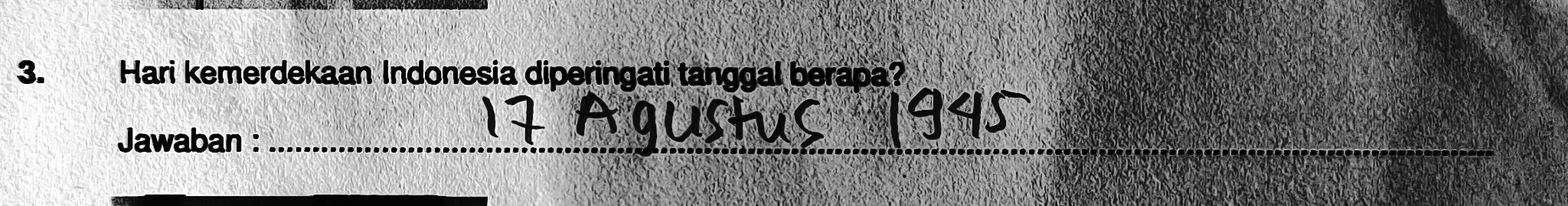jawaban: (570, 92, 828, 150), (885, 82, 1037, 149), (481, 94, 544, 145)
